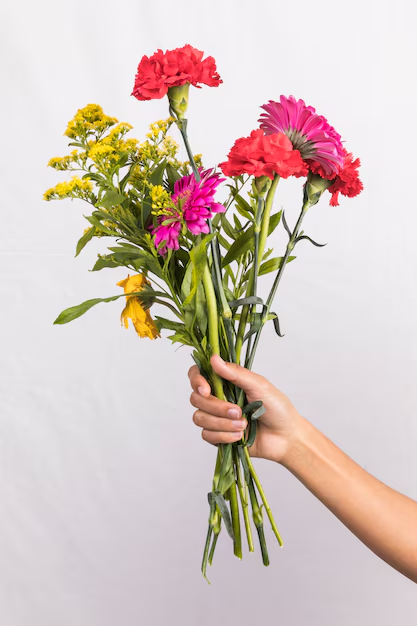Pink: (257, 93, 341, 186), (150, 165, 220, 251)
Red: (130, 43, 222, 107), (217, 128, 310, 183), (292, 147, 362, 207)
Yellow: (46, 102, 137, 206), (117, 274, 160, 338)
